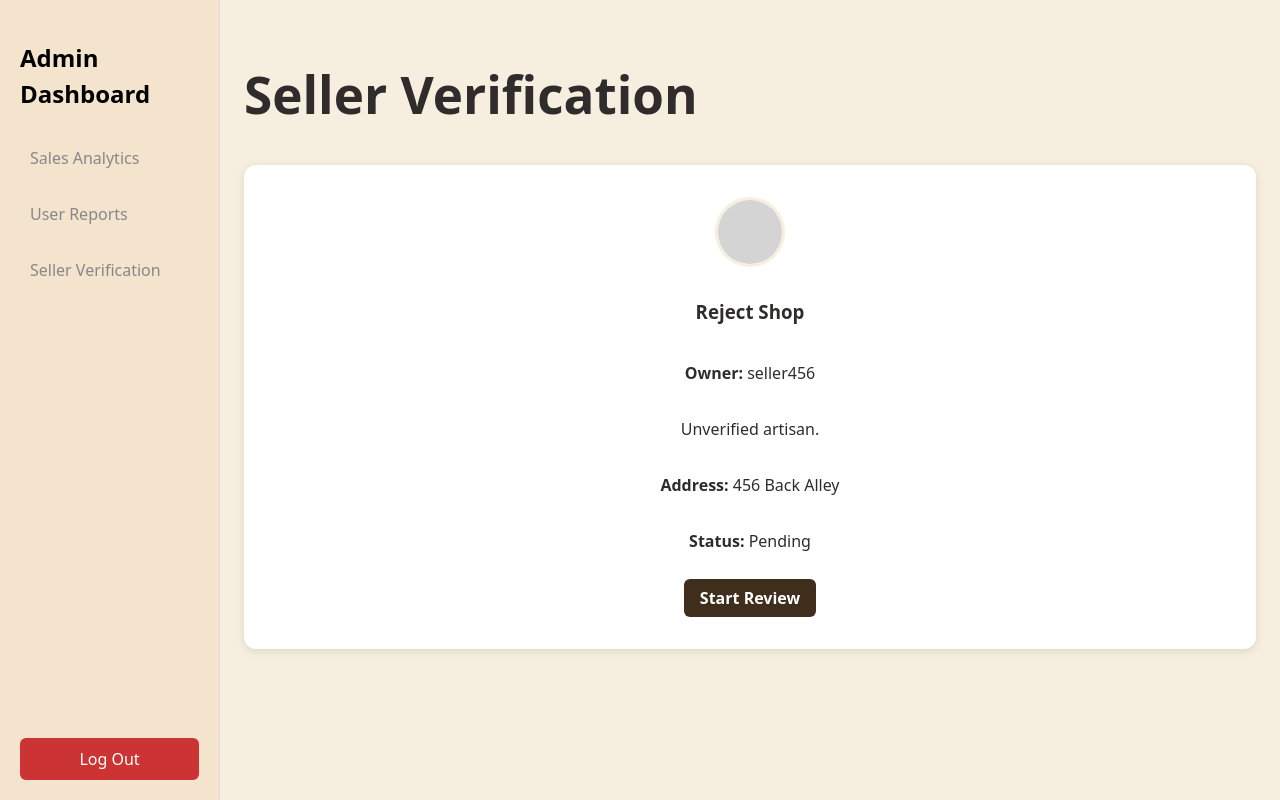
when you press reject button the seller status changes to "Rejected"
The width and height of the screenshot is (1280, 800).
Click the button "Start Review".
click(750, 598)  # box [684,579,816,617]
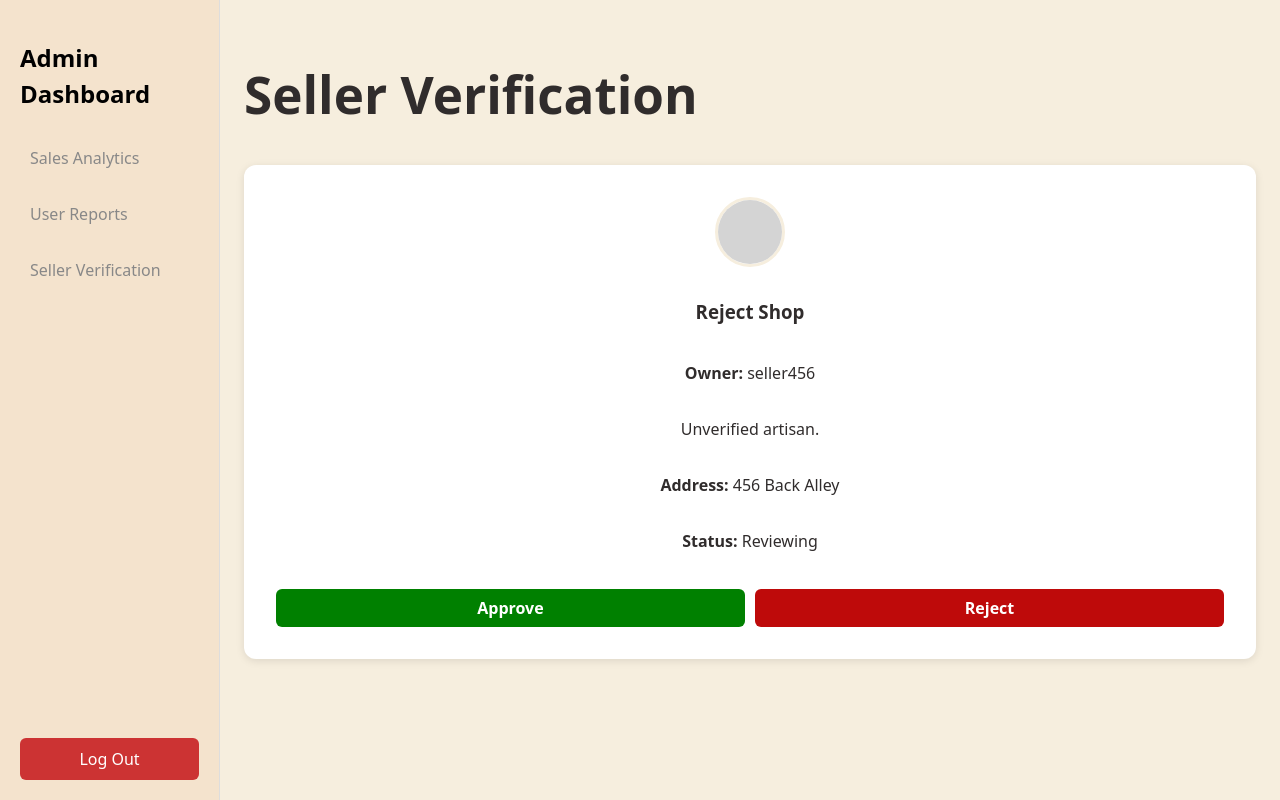
Click the button "Reject".
click(990, 608)  # box [755,589,1224,627]
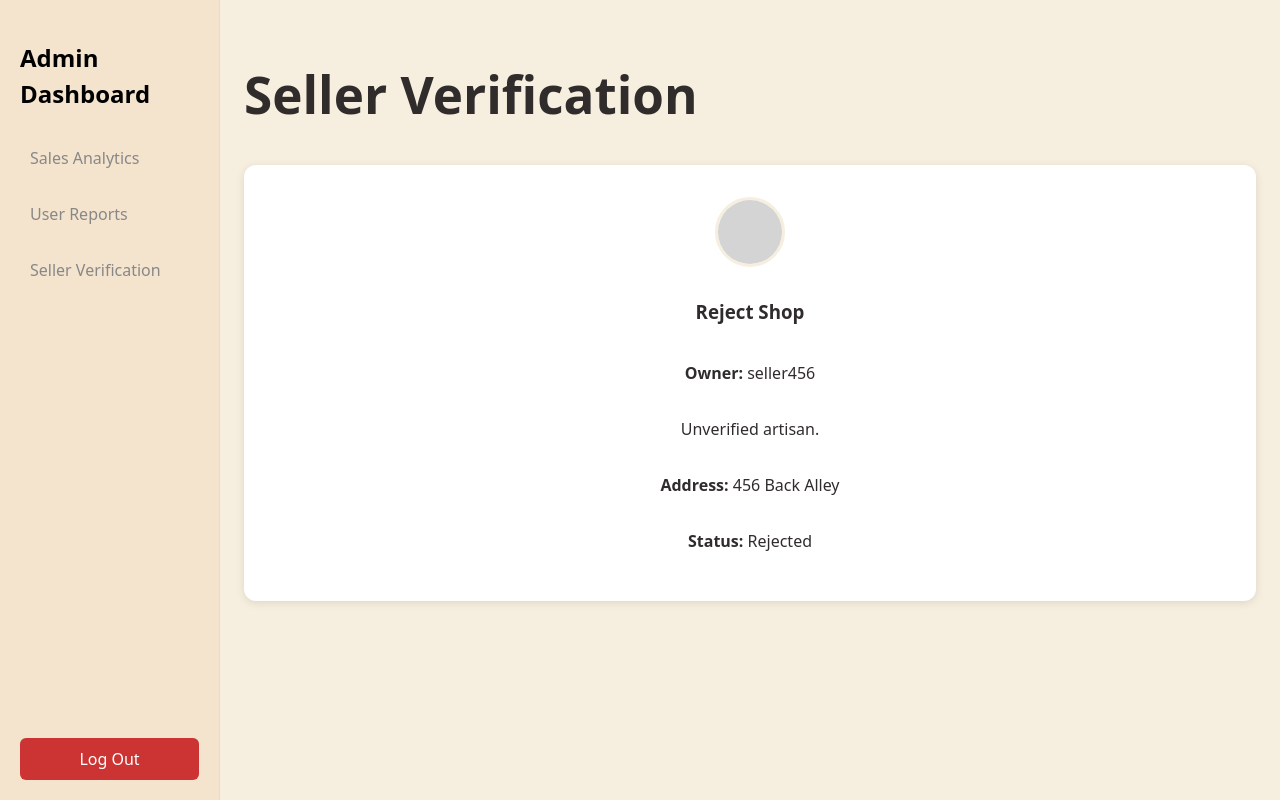
Expected: the element with test id "seller-status" shows "Rejected", [748,530,812,552]
